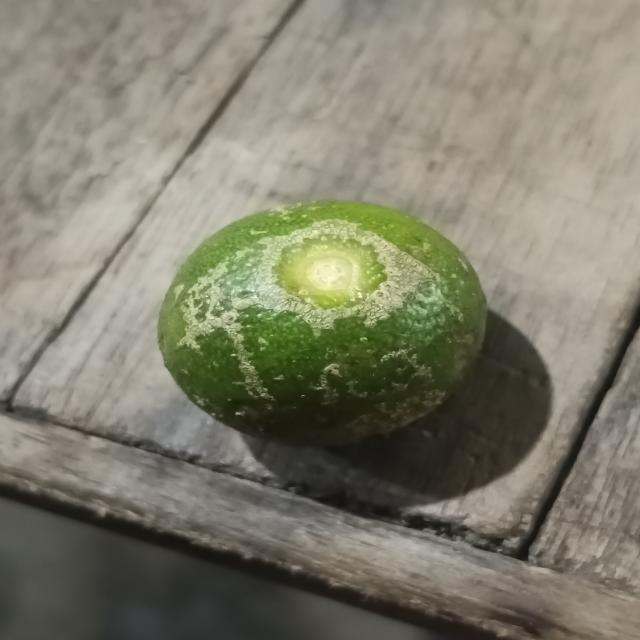thrips: (159, 199, 488, 441)
